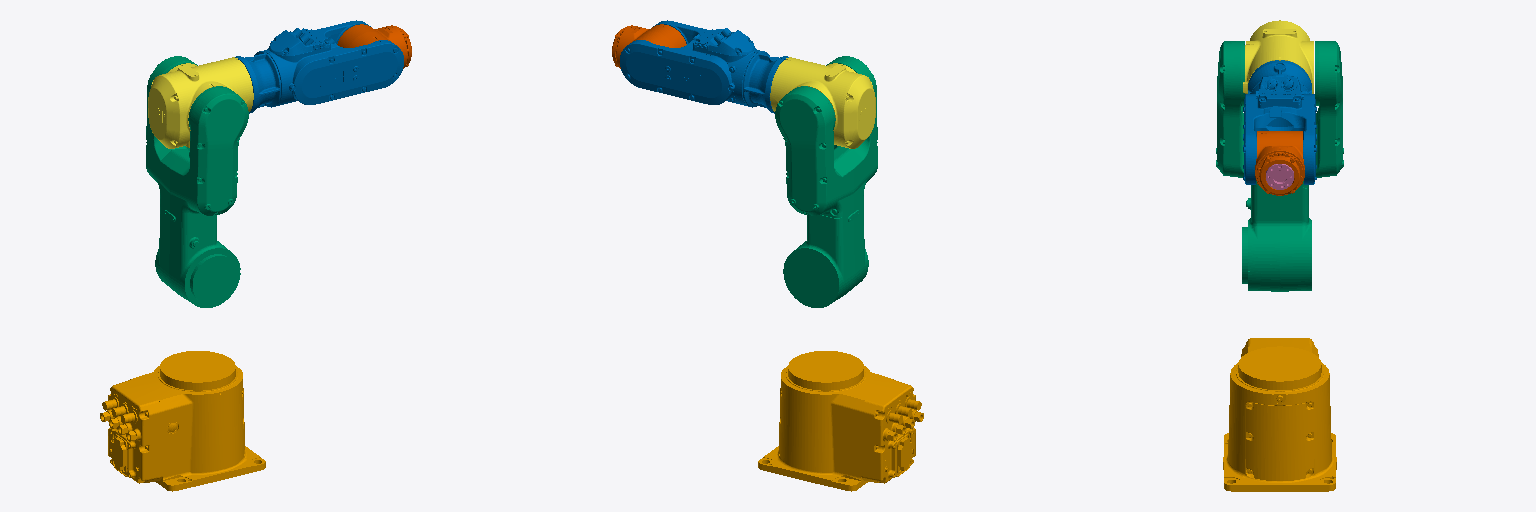
URDF robot description (IRB1100_4kg-580-STD):
<?xml version="1.0" ?>
<robot name="IRB1100_4kg-580-STD">

<link name="base_link">
  <inertial>
    <origin xyz="-0.02787704383398057 6.546742546976357e-06 0.07388271164308677" rpy="0 0 0"/>
    <mass value="27.850495023598416"/>
    <inertia ixx="0.08843" iyy="0.137195" izz="0.117326" ixy="2.6e-05" iyz="2e-06" ixz="-0.000602"/>
  </inertial>
  <visual>
    <origin xyz="0 0 0" rpy="0 0 0"/>
    <geometry>
      <mesh filename="package://IRB1100_4kg-580-STD_description/meshes/base_link.stl" scale="0.001 0.001 0.001"/>
    </geometry>
    <material name="silver"/>
  </visual>
  <collision>
    <origin xyz="0 0 0" rpy="0 0 0"/>
    <geometry>
      <mesh filename="package://IRB1100_4kg-580-STD_description/meshes/base_link.stl" scale="0.001 0.001 0.001"/>
    </geometry>
  </collision>
</link>

<link name="1_1">
  <inertial>
    <origin xyz="0.006224760554789564 0.0005888154902042292 0.09006136295556111" rpy="0 0 0"/>
    <mass value="24.887771906712818"/>
    <inertia ixx="0.147959" iyy="0.109504" izz="0.106644" ixy="0.000149" iyz="-0.001709" ixz="0.001207"/>
  </inertial>
  <visual>
    <origin xyz="0.0 0.0 -0.146" rpy="0 0 0"/>
    <geometry>
      <mesh filename="package://IRB1100_4kg-580-STD_description/meshes/1_1.stl" scale="0.001 0.001 0.001"/>
    </geometry>
    <material name="silver"/>
  </visual>
  <collision>
    <origin xyz="0.0 0.0 -0.146" rpy="0 0 0"/>
    <geometry>
      <mesh filename="package://IRB1100_4kg-580-STD_description/meshes/1_1.stl" scale="0.001 0.001 0.001"/>
    </geometry>
  </collision>
</link>

<link name="2_1">
  <inertial>
    <origin xyz="-0.0087009098416195 -0.04529227498581691 0.12215502124506161" rpy="0 0 0"/>
    <mass value="19.747227512978796"/>
    <inertia ixx="0.245751" iyy="0.211352" izz="0.05501" ixy="-0.000173" iyz="-0.006704" ixz="0.002896"/>
  </inertial>
  <visual>
    <origin xyz="0.0 -0.046 -0.327" rpy="0 0 0"/>
    <geometry>
      <mesh filename="package://IRB1100_4kg-580-STD_description/meshes/2_1.stl" scale="0.001 0.001 0.001"/>
    </geometry>
    <material name="silver"/>
  </visual>
  <collision>
    <origin xyz="0.0 -0.046 -0.327" rpy="0 0 0"/>
    <geometry>
      <mesh filename="package://IRB1100_4kg-580-STD_description/meshes/2_1.stl" scale="0.001 0.001 0.001"/>
    </geometry>
  </collision>
</link>

<link name="3_1">
  <inertial>
    <origin xyz="-0.006632546888345018 -0.05344541093000417 0.003564050770222149" rpy="0 0 0"/>
    <mass value="8.184213468997186"/>
    <inertia ixx="0.012465" iyy="0.016906" izz="0.017246" ixy="0.000265" iyz="-0.000347" ixz="-0.000896"/>
  </inertial>
  <visual>
    <origin xyz="0.0 -0.0486 -0.607" rpy="0 0 0"/>
    <geometry>
      <mesh filename="package://IRB1100_4kg-580-STD_description/meshes/3_1.stl" scale="0.001 0.001 0.001"/>
    </geometry>
    <material name="silver"/>
  </visual>
  <collision>
    <origin xyz="0.0 -0.0486 -0.607" rpy="0 0 0"/>
    <geometry>
      <mesh filename="package://IRB1100_4kg-580-STD_description/meshes/3_1.stl" scale="0.001 0.001 0.001"/>
    </geometry>
  </collision>
</link>

<link name="4_1">
  <inertial>
    <origin xyz="0.13439148999668943 -0.0002874742095678405 0.002314069325099144" rpy="0 0 0"/>
    <mass value="12.239054477267983"/>
    <inertia ixx="0.015923" iyy="0.065285" izz="0.068615" ixy="0.000391" iyz="-8e-06" ixz="7.7e-05"/>
  </inertial>
  <visual>
    <origin xyz="-0.0455 0.0 -0.617" rpy="0 0 0"/>
    <geometry>
      <mesh filename="package://IRB1100_4kg-580-STD_description/meshes/4_1.stl" scale="0.001 0.001 0.001"/>
    </geometry>
    <material name="silver"/>
  </visual>
  <collision>
    <origin xyz="-0.0455 0.0 -0.617" rpy="0 0 0"/>
    <geometry>
      <mesh filename="package://IRB1100_4kg-580-STD_description/meshes/4_1.stl" scale="0.001 0.001 0.001"/>
    </geometry>
  </collision>
</link>

<link name="5_1">
  <inertial>
    <origin xyz="0.012701372064912897 0.03268807278446571 -4.369593762154622e-06" rpy="0 0 0"/>
    <mass value="2.582057522638694"/>
    <inertia ixx="0.00162" iyy="0.002724" izz="0.002458" ixy="5e-06" iyz="0.0" ixz="-0.0"/>
  </inertial>
  <visual>
    <origin xyz="-0.3 0.0325 -0.617" rpy="0 0 0"/>
    <geometry>
      <mesh filename="package://IRB1100_4kg-580-STD_description/meshes/5_1.stl" scale="0.001 0.001 0.001"/>
    </geometry>
    <material name="silver"/>
  </visual>
  <collision>
    <origin xyz="-0.3 0.0325 -0.617" rpy="0 0 0"/>
    <geometry>
      <mesh filename="package://IRB1100_4kg-580-STD_description/meshes/5_1.stl" scale="0.001 0.001 0.001"/>
    </geometry>
  </collision>
</link>

<link name="6_1">
  <inertial>
    <origin xyz="-0.0037167352017073996 -5.852672375842243e-05 -3.672223617046111e-05" rpy="0 0 0"/>
    <mass value="0.05751158667684081"/>
    <inertia ixx="1.4e-05" iyy="7e-06" izz="7e-06" ixy="0.0" iyz="-0.0" ixz="0.0"/>
  </inertial>
  <visual>
    <origin xyz="-0.3634 -0.0 -0.617" rpy="0 0 0"/>
    <geometry>
      <mesh filename="package://IRB1100_4kg-580-STD_description/meshes/6_1.stl" scale="0.001 0.001 0.001"/>
    </geometry>
    <material name="silver"/>
  </visual>
  <collision>
    <origin xyz="-0.3634 -0.0 -0.617" rpy="0 0 0"/>
    <geometry>
      <mesh filename="package://IRB1100_4kg-580-STD_description/meshes/6_1.stl" scale="0.001 0.001 0.001"/>
    </geometry>
  </collision>
</link>

<joint name="j1" type="continuous">
  <origin xyz="0.0 0.0 0.146" rpy="0 0 0"/>
  <parent link="base_link"/>
  <child link="1_1"/>
  <axis xyz="0.0 0.0 1.0"/>
</joint>

<joint name="j2" type="continuous">
  <origin xyz="0.0 0.046 0.181" rpy="0 0 0"/>
  <parent link="1_1"/>
  <child link="2_1"/>
  <axis xyz="0.0 -1.0 -0.0"/>
</joint>

<joint name="j3" type="continuous">
  <origin xyz="0.0 0.0026 0.28" rpy="0 0 0"/>
  <parent link="2_1"/>
  <child link="3_1"/>
  <axis xyz="0.0 -1.0 0.0"/>
</joint>

<joint name="j4" type="continuous">
  <origin xyz="0.0455 -0.0486 0.01" rpy="0 0 0"/>
  <parent link="3_1"/>
  <child link="4_1"/>
  <axis xyz="-1.0 0.0 0.0"/>
</joint>

<joint name="j5" type="continuous">
  <origin xyz="0.2545 -0.0325 0.0" rpy="0 0 0"/>
  <parent link="4_1"/>
  <child link="5_1"/>
  <axis xyz="-0.0 -1.0 -0.0"/>
</joint>

<joint name="j6" type="continuous">
  <origin xyz="0.0634 0.0325 0.0" rpy="0 0 0"/>
  <parent link="5_1"/>
  <child link="6_1"/>
  <axis xyz="1.0 0.0 0.0"/>
</joint>

</robot>

--- What the picture shows (computed from the rendered views, not written in the file) ---
3 views of the same robot in one strip: view 1: azimuth 30°, elevation 25°; view 2: azimuth 150°, elevation 25°; view 3: azimuth 270°, elevation 25° (orthographic).
Model IRB1100_4kg-580-STD with 7 links and 6 joints (6 continuous), rooted at base_link, posed all joints at 0.
Visible links, largest first — view 1: base_link, 2_1, 4_1, 3_1, 5_1; view 2: base_link, 2_1, 4_1, 3_1, 5_1; view 3: base_link, 2_1, 4_1, 3_1, 5_1, 6_1.
Boxes of the visible links, x1=… form: base_link: x1=100, y1=351, x2=265, y2=491; 2_1: x1=146, y1=56, x2=248, y2=307; 4_1: x1=235, y1=20, x2=403, y2=113; 3_1: x1=148, y1=57, x2=253, y2=148; 5_1: x1=337, y1=24, x2=411, y2=68; base_link: x1=758, y1=351, x2=923, y2=491; 2_1: x1=775, y1=56, x2=877, y2=307; 4_1: x1=620, y1=20, x2=788, y2=113; 3_1: x1=770, y1=57, x2=875, y2=148; 5_1: x1=612, y1=24, x2=686, y2=68; base_link: x1=1223, y1=338, x2=1336, y2=491; 2_1: x1=1216, y1=41, x2=1343, y2=291; 4_1: x1=1243, y1=60, x2=1316, y2=184; 3_1: x1=1243, y1=20, x2=1313, y2=93; 5_1: x1=1255, y1=131, x2=1304, y2=195; 6_1: x1=1266, y1=164, x2=1293, y2=189.
Size in the robot's own frame: 0.513 by 0.179 by 0.6847 metres.
6 mesh visuals loaded from 7 distinct referenced files (6 binary STL); not drawn: 1 (reference not matched to a file when rendering).